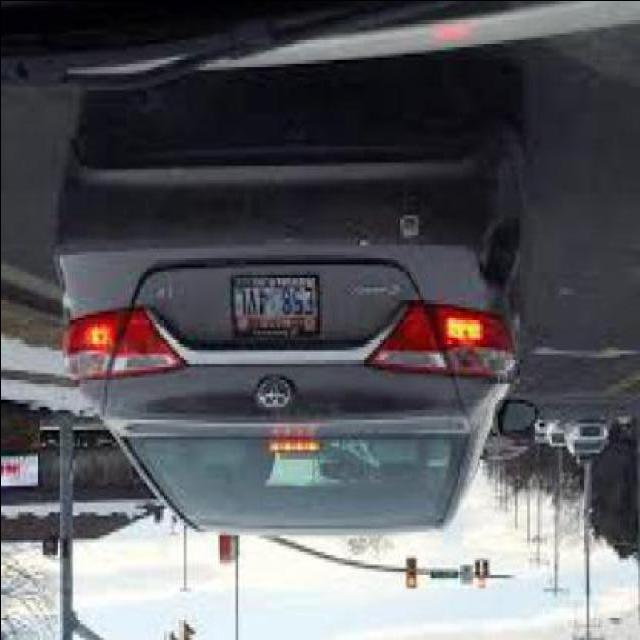rear-bumper-dent: (358, 92, 554, 310)
